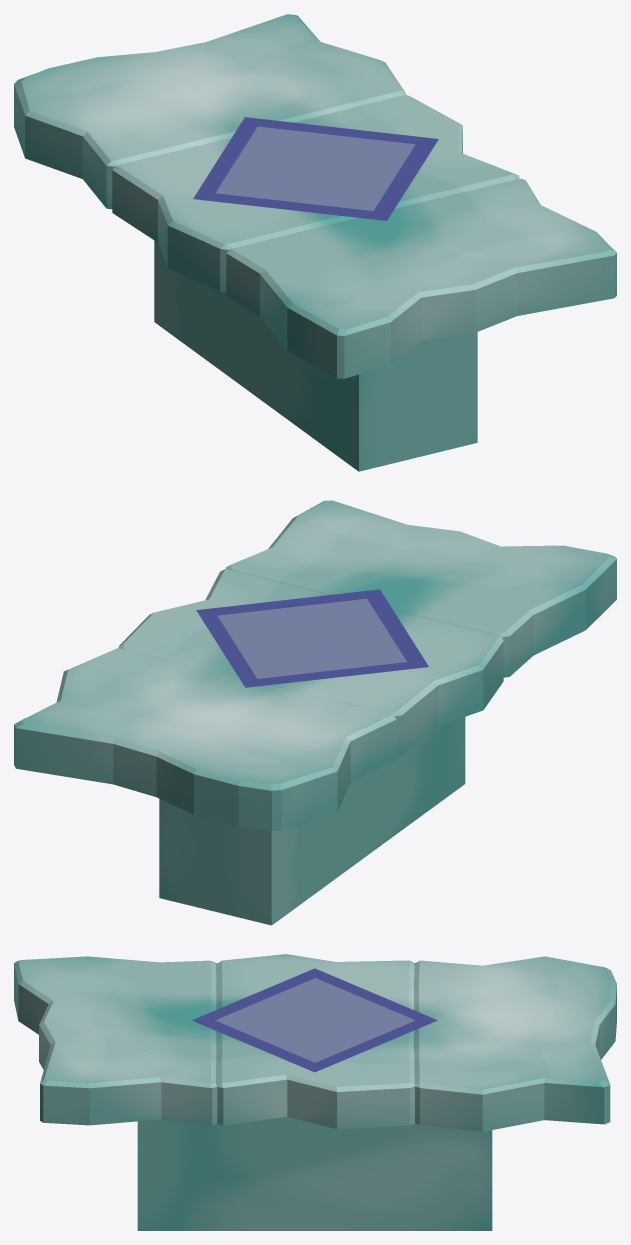
File: TableMedium.glb
3 renders of one model, top to bottom at view 1: azimuth 30°, elevation 25°; view 2: azimuth 150°, elevation 25°; view 3: azimuth 270°, elevation 25°, orthographic. The views are drawn at different scales.
Parts seen in each view (by area): view 1: table medium.001, table cloth; view 2: table medium.001, table cloth; view 3: table medium.001, table cloth.
Part boxes in pixels (left/top/right/bottom): table medium.001: left=14, top=14, right=616, bottom=471; table cloth: left=193, top=117, right=438, bottom=220; table medium.001: left=14, top=500, right=616, bottom=925; table cloth: left=196, top=589, right=428, bottom=687; table medium.001: left=14, top=954, right=616, bottom=1230; table cloth: left=192, top=968, right=437, bottom=1072.
Size of the model in its own units: 0.9655 by 0.5966 by 1.76.
Materials: 2 (2 with a texture image).
